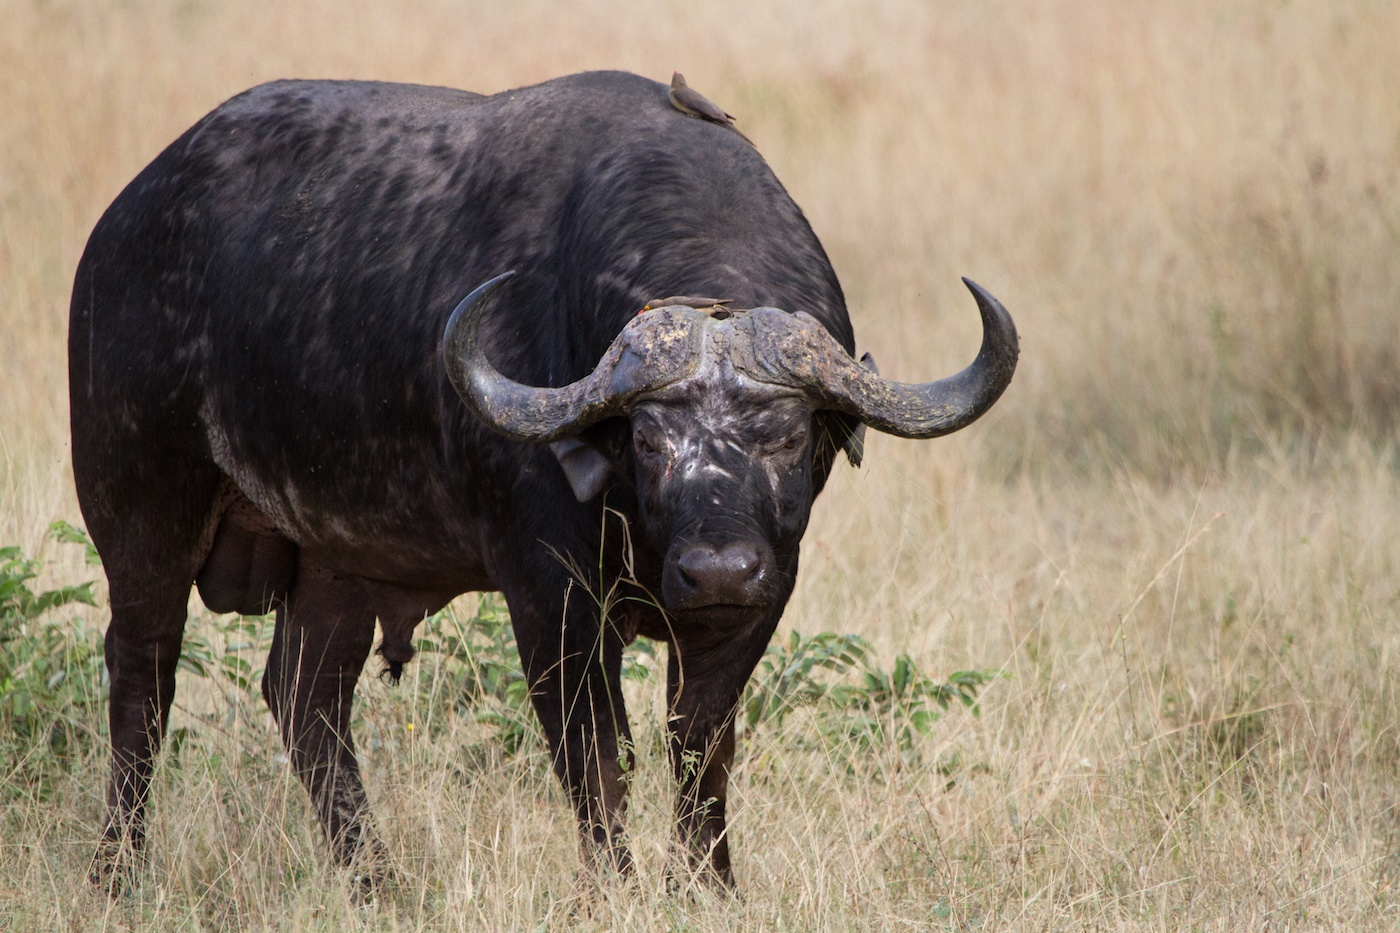buffalo: (62, 70, 1023, 912)
